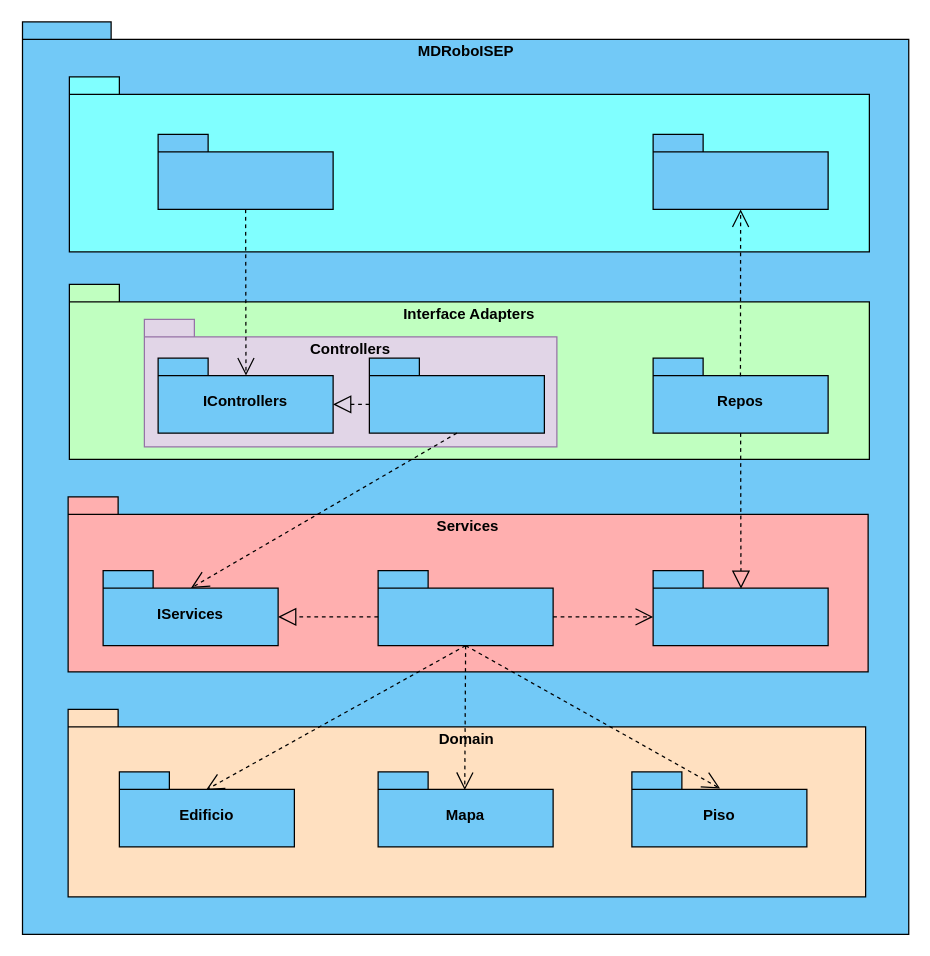
Some shapes in this 930 by 956 pixel diagram are drawn without their labels. Here are the shapes that lost their labels. From the top down, the box of each, then its label:
(157, 133, 333, 209): Routes
(68, 76, 869, 252): Infrastrecture
(652, 133, 828, 209): Persistence
(368, 357, 544, 433): ImplControllers
(377, 569, 553, 646): ImplServices
(652, 569, 828, 646): IRepos
